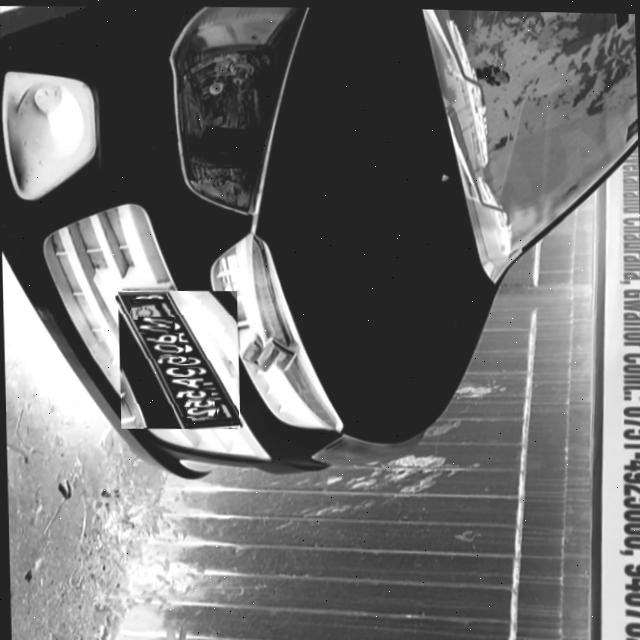0: (150, 342, 183, 354)
2: (185, 405, 215, 417)
5: (172, 387, 207, 399), (182, 397, 211, 407)
6: (156, 353, 186, 363)
8: (190, 414, 220, 423)
A: (169, 376, 199, 389)
C: (162, 366, 195, 376)
IND: (128, 298, 168, 319)
Indian_registered: (116, 291, 237, 427)
M: (136, 315, 172, 334)
P: (143, 332, 176, 344)
